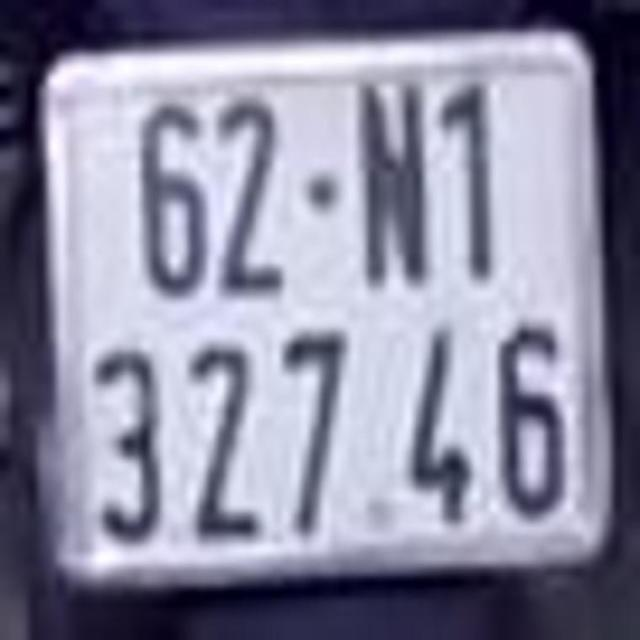1: (440, 80, 500, 282)
2: (188, 343, 262, 539), (218, 100, 285, 294)
3: (91, 345, 165, 543)
4: (406, 323, 475, 528)
6: (498, 320, 569, 520), (140, 101, 208, 296)
7: (282, 329, 346, 538)
N: (357, 80, 431, 287)
